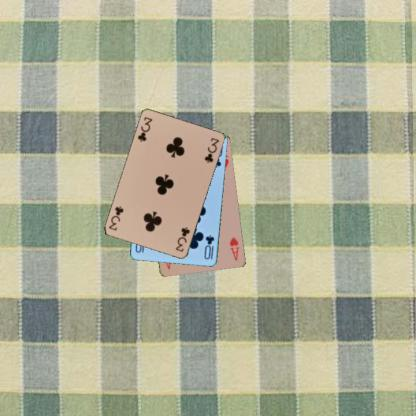10c: (202, 233, 216, 260)
3c: (135, 115, 154, 144), (173, 225, 191, 253)
Ah: (227, 234, 241, 262)
